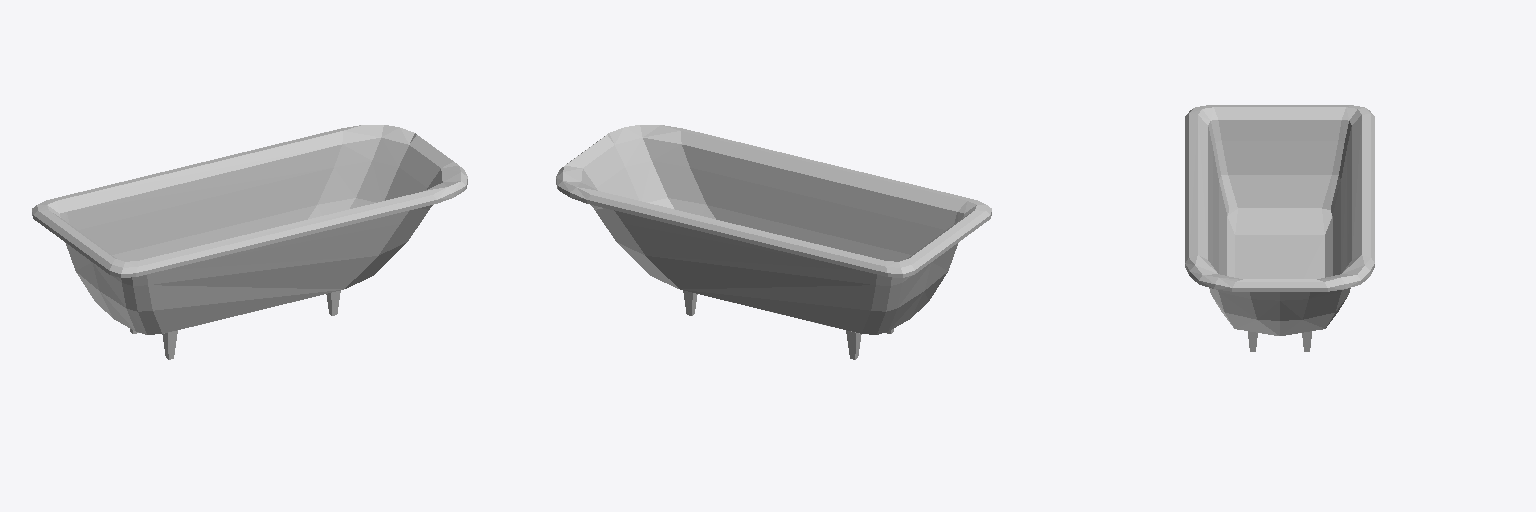
The model's file is Bath.obj.
3 views of the same model, side by side, from view 1: azimuth 30°, elevation 25°; view 2: azimuth 150°, elevation 25°; view 3: azimuth 270°, elevation 25° (orthographic).
Parts seen in each view (by area): view 1: Bath_LOD0_Bath_LOD0.002; view 2: Bath_LOD0_Bath_LOD0.002; view 3: Bath_LOD0_Bath_LOD0.002.
Part boxes in pixels (x1,y1,x2,y2): Bath_LOD0_Bath_LOD0.002: (32, 125, 467, 359); Bath_LOD0_Bath_LOD0.002: (556, 125, 991, 359); Bath_LOD0_Bath_LOD0.002: (1185, 105, 1374, 351).
Bounding box in the file's own units: 2.17 × 0.7202 × 0.9649.